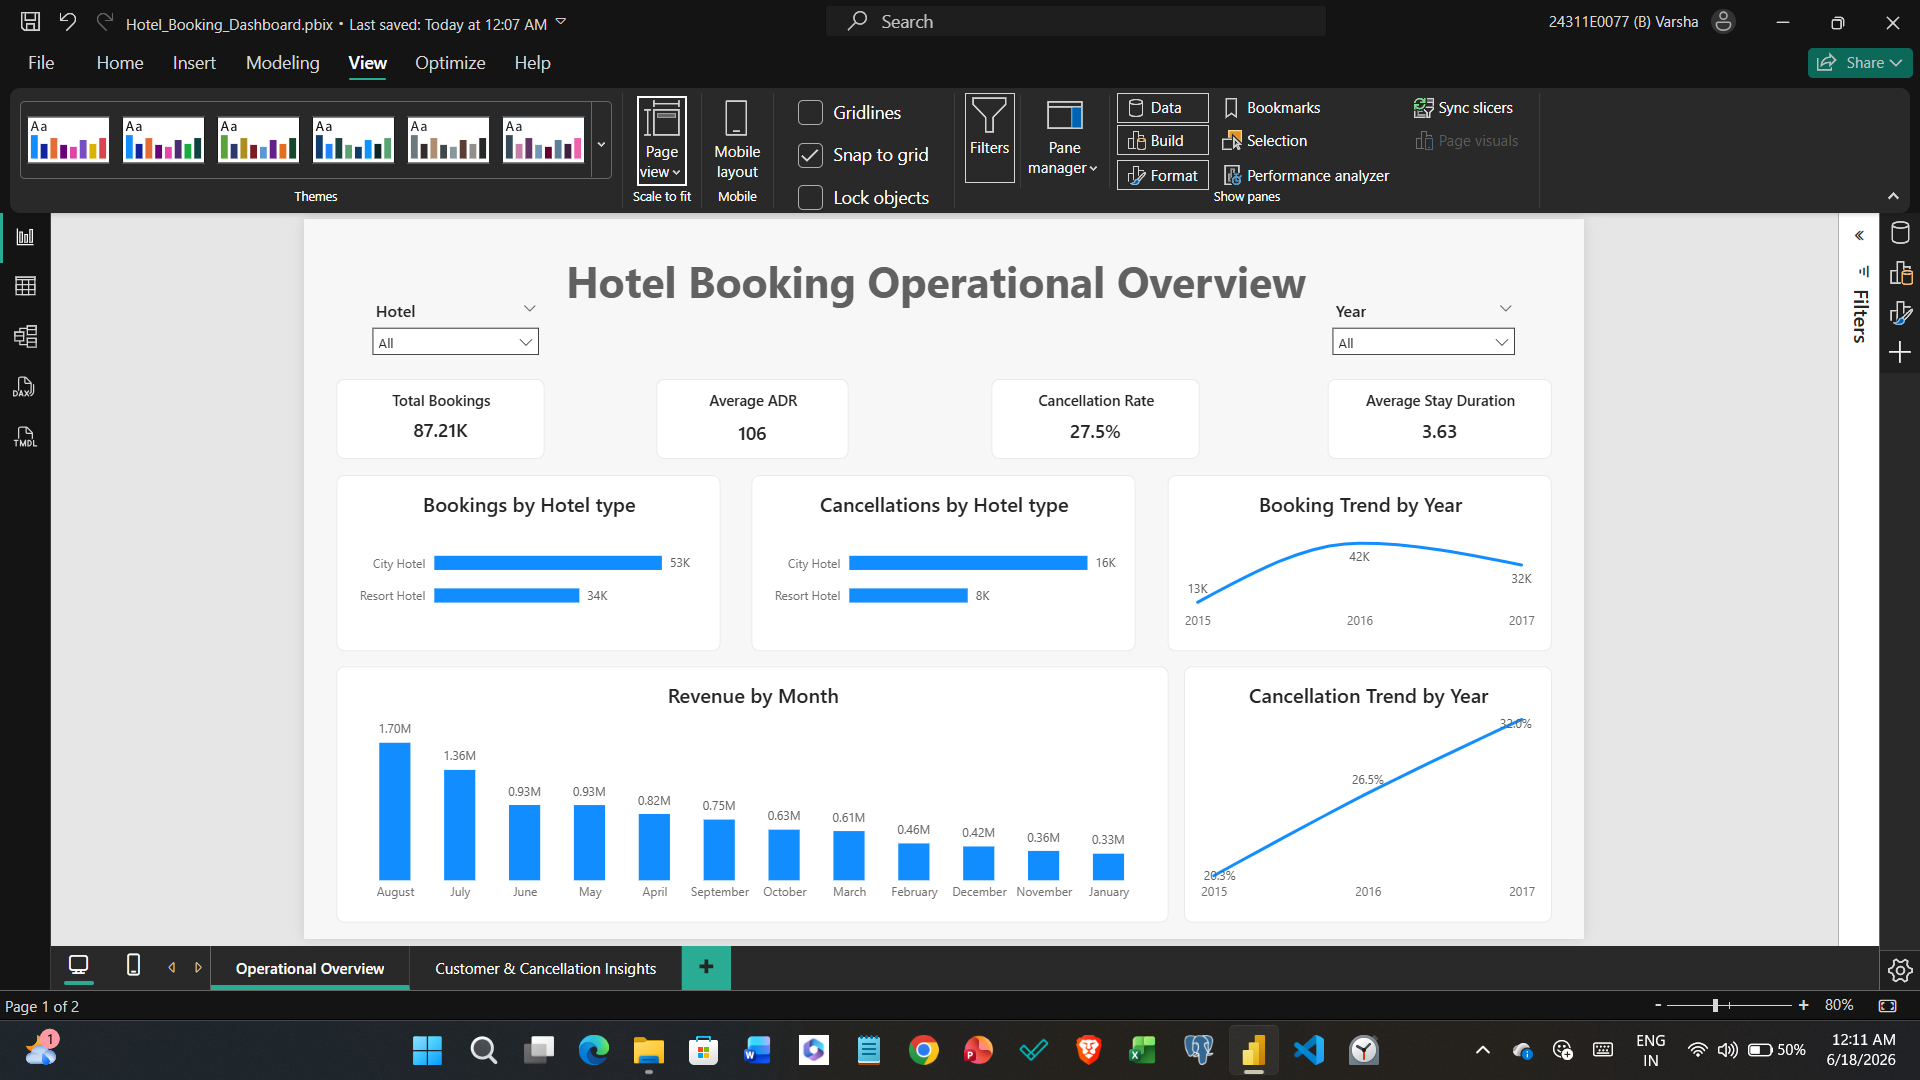

Layout of this report page (visuals, bound fields, positions):
{"tool":"powerbi","page":{"name":"Operational Overview","canvas":[1280,720],"ordinal":0},"visuals":[{"type":"card","title":"Total Bookings","fields":{"Values":["CountNonNull(hotel_bookings_cleaned.hotel)"]},"box":[32,160,208,80],"z":0},{"type":"cardVisual","title":"Cancellation Rate","fields":{"Data":["hotel_bookings_cleaned.Cancellation_rate"]},"box":[688,160,208,80],"z":1000},{"type":"cardVisual","title":"Average ADR","fields":{"Data":["hotel_bookings_cleaned.Average ADR"]},"box":[352,160,192,80],"z":2000},{"type":"cardVisual","title":"Average Stay Duration","fields":{"Data":["hotel_bookings_cleaned.Average Stay Duration"]},"box":[1024,160,224,80],"z":2001},{"type":"clusteredBarChart","title":"Bookings by Hotel type","fields":{"Category":["hotel_bookings_cleaned.hotel"],"Y":["CountNonNull(hotel_bookings_cleaned.hotel)"]},"box":[32,256,384,176],"z":2002},{"type":"clusteredBarChart","title":"Cancellations by Hotel type","fields":{"Category":["hotel_bookings_cleaned.hotel"],"Y":["hotel_bookings_cleaned.Cancellation Count"]},"box":[448,256,384,176],"z":2003},{"type":"clusteredColumnChart","title":"Revenue by Month","fields":{"Category":["hotel_bookings_cleaned.arrival_date_month"],"Y":["hotel_bookings_cleaned.Revenue"]},"box":[32,448,832,256],"z":2004},{"type":"lineChart","title":"Booking Trend by Year","fields":{"Category":["hotel_bookings_cleaned.arrival_date_year"],"Y":["CountNonNull(hotel_bookings_cleaned.hotel)"]},"box":[864,256,384,176],"z":2005},{"type":"lineChart","title":"Cancellation Trend by Year","fields":{"Category":["hotel_bookings_cleaned.arrival_date_year"],"Y":["hotel_bookings_cleaned.Cancellation_rate"]},"box":[880,448,368,256],"z":2006},{"type":"slicer","fields":{"Values":["hotel_bookings_cleaned.hotel"]},"box":[64,80,176,64],"z":2007},{"type":"slicer","fields":{"Values":["hotel_bookings_cleaned.arrival_date_year"]},"box":[1024,80,192,64],"z":2008},{"type":"textbox","box":[240,32,784,64],"z":2009}]}

Visuals, with their boxes on the page's 1280x720 design canvas (x1, y1, x2, y2). These are canvas units, not pixel positions in the 1920x1080 screenshot, which may show the page scaled, cropped or inside an application window:
"Total Bookings" card: {"x1": 32, "y1": 160, "x2": 240, "y2": 240}
"Cancellation Rate" cardVisual: {"x1": 688, "y1": 160, "x2": 896, "y2": 240}
"Average ADR" cardVisual: {"x1": 352, "y1": 160, "x2": 544, "y2": 240}
"Average Stay Duration" cardVisual: {"x1": 1024, "y1": 160, "x2": 1248, "y2": 240}
"Bookings by Hotel type" clusteredBarChart: {"x1": 32, "y1": 256, "x2": 416, "y2": 432}
"Cancellations by Hotel type" clusteredBarChart: {"x1": 448, "y1": 256, "x2": 832, "y2": 432}
"Revenue by Month" clusteredColumnChart: {"x1": 32, "y1": 448, "x2": 864, "y2": 704}
"Booking Trend by Year" lineChart: {"x1": 864, "y1": 256, "x2": 1248, "y2": 432}
"Cancellation Trend by Year" lineChart: {"x1": 880, "y1": 448, "x2": 1248, "y2": 704}
slicer - hotel_bookings_cleaned.hotel: {"x1": 64, "y1": 80, "x2": 240, "y2": 144}
slicer - hotel_bookings_cleaned.arrival_date_year: {"x1": 1024, "y1": 80, "x2": 1216, "y2": 144}
textbox: {"x1": 240, "y1": 32, "x2": 1024, "y2": 96}
